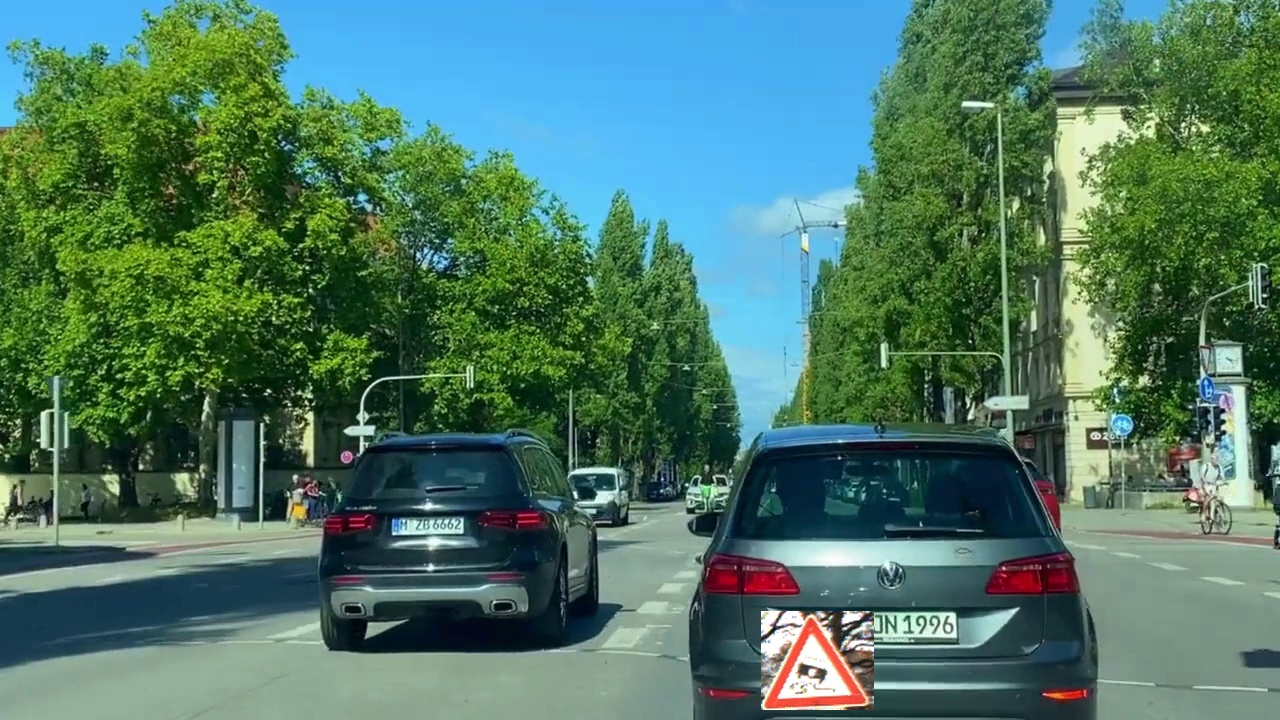Slippery: (761, 611, 874, 710)
